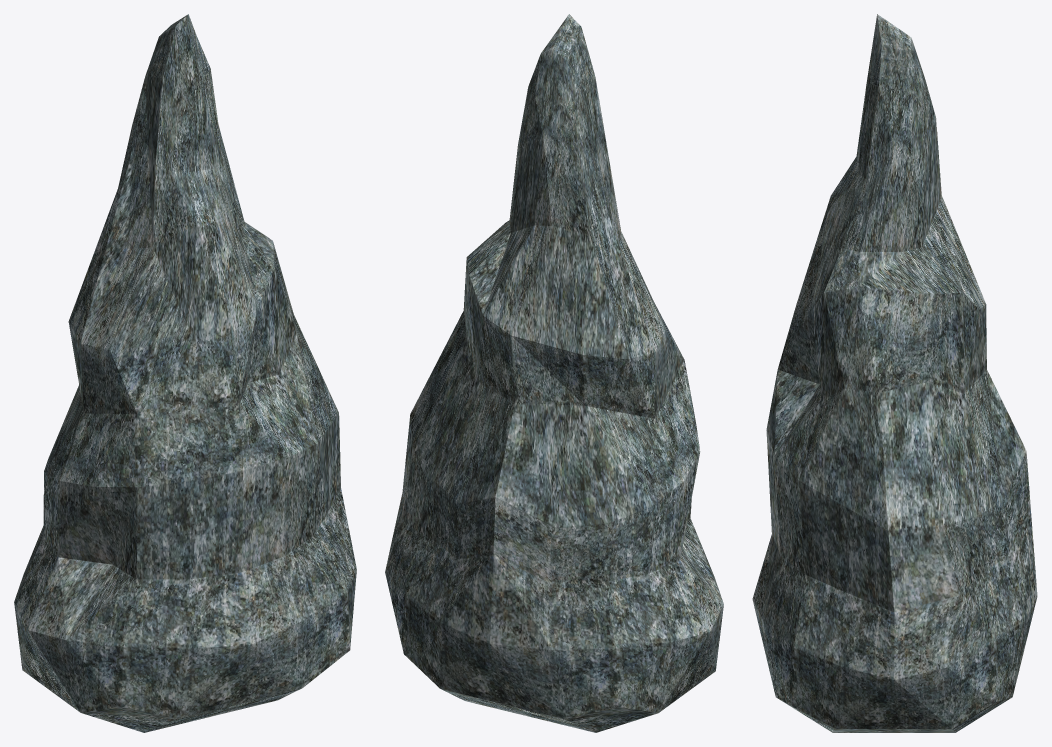
The model's file is rock_dath_desertcanyon_lg_l0.fbx.
The picture shows the model from 3 angles, left to right: view 1: azimuth 30°, elevation 25°; view 2: azimuth 150°, elevation 25°; view 3: azimuth 270°, elevation 25°; orthographic projection.
Parts seen in each view (by area): view 1: mesh_node; view 2: mesh_node; view 3: mesh_node.
Boxes of the visible parts, box(x1,y1,x2,y2) form: mesh_node: box(14, 14, 356, 732); mesh_node: box(385, 14, 723, 732); mesh_node: box(752, 14, 1037, 732).
Size of the model in its own units: 8.9 by 18.34 by 6.9.
